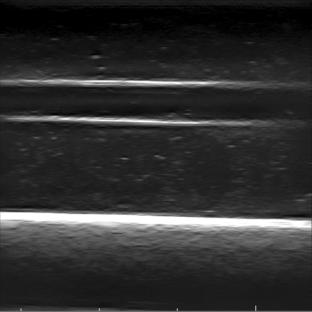vessel: (4, 78, 305, 128)
